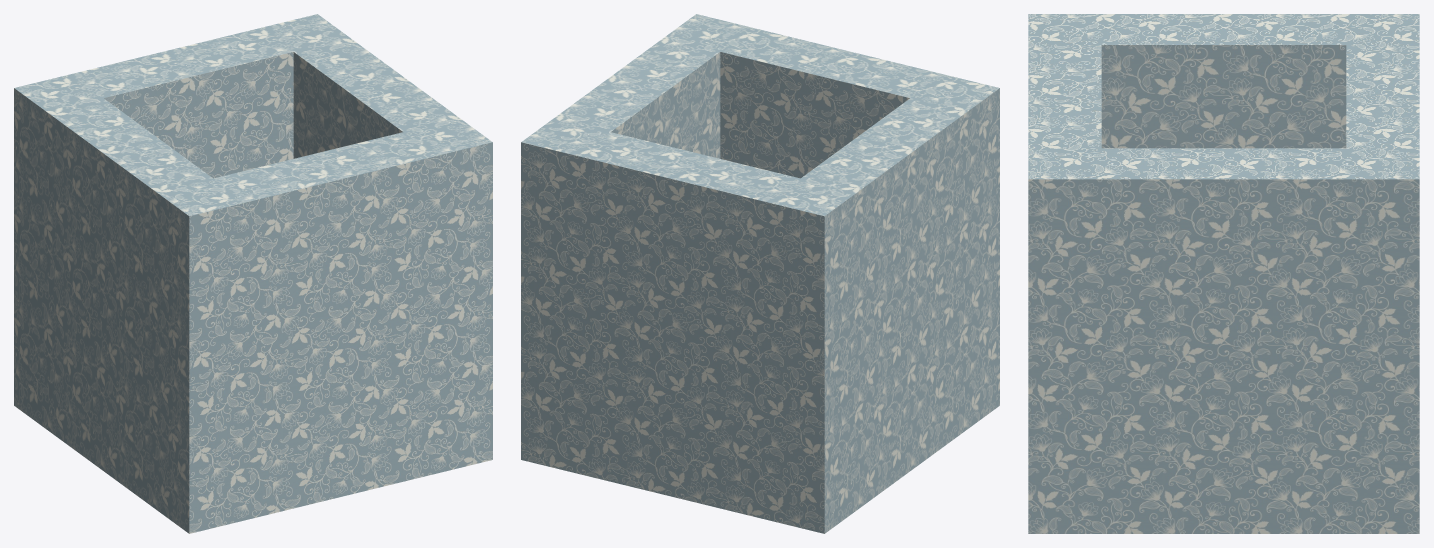
The model's file is house.glb.
3 renders of one model, left to right at view 1: azimuth 30°, elevation 25°; view 2: azimuth 150°, elevation 25°; view 3: azimuth 270°, elevation 25°, orthographic. The views are drawn at different scales.
Parts seen in each view (by area): view 1: house; view 2: house; view 3: house.
Part boxes in pixels (left/top/right/bottom): house: left=14, top=14, right=492, bottom=533; house: left=521, top=14, right=999, bottom=533; house: left=1028, top=14, right=1419, bottom=533.
Size of the model in its own units: 10 by 10 by 10.
Materials: 2 (2 with a texture image).
